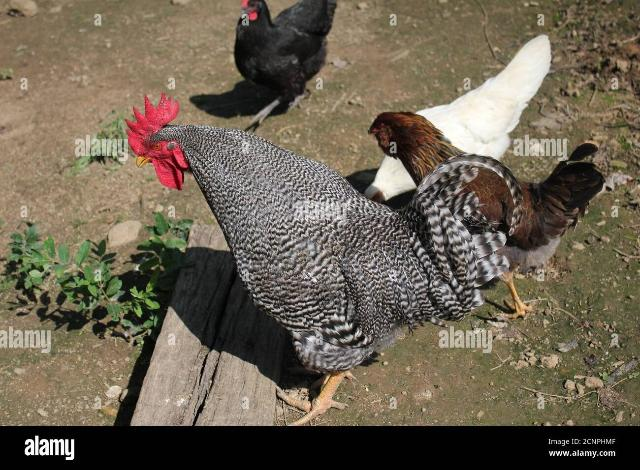Chicken: (127, 95, 520, 432), (370, 110, 601, 316), (365, 33, 551, 203), (232, 0, 339, 127)
